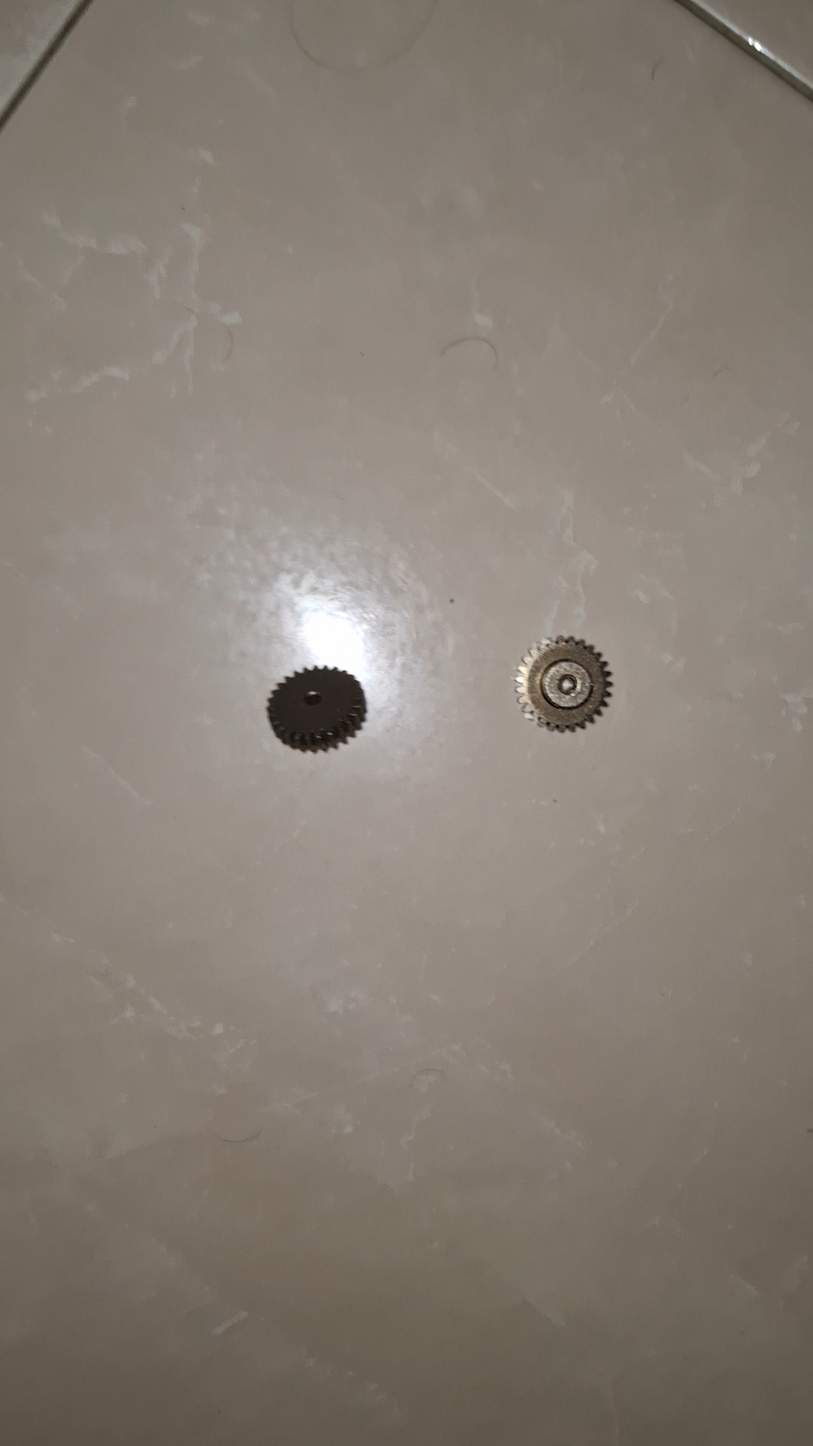spur gear: (515, 636, 611, 732), (268, 668, 366, 751)
